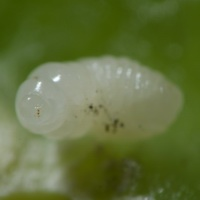insect: (16, 57, 182, 139)
